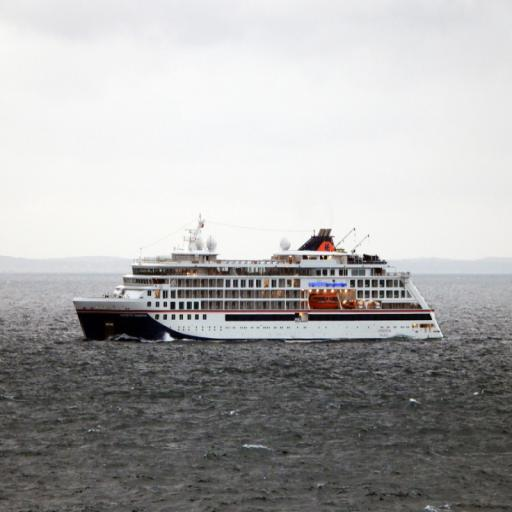cruises: (70, 213, 447, 348)
